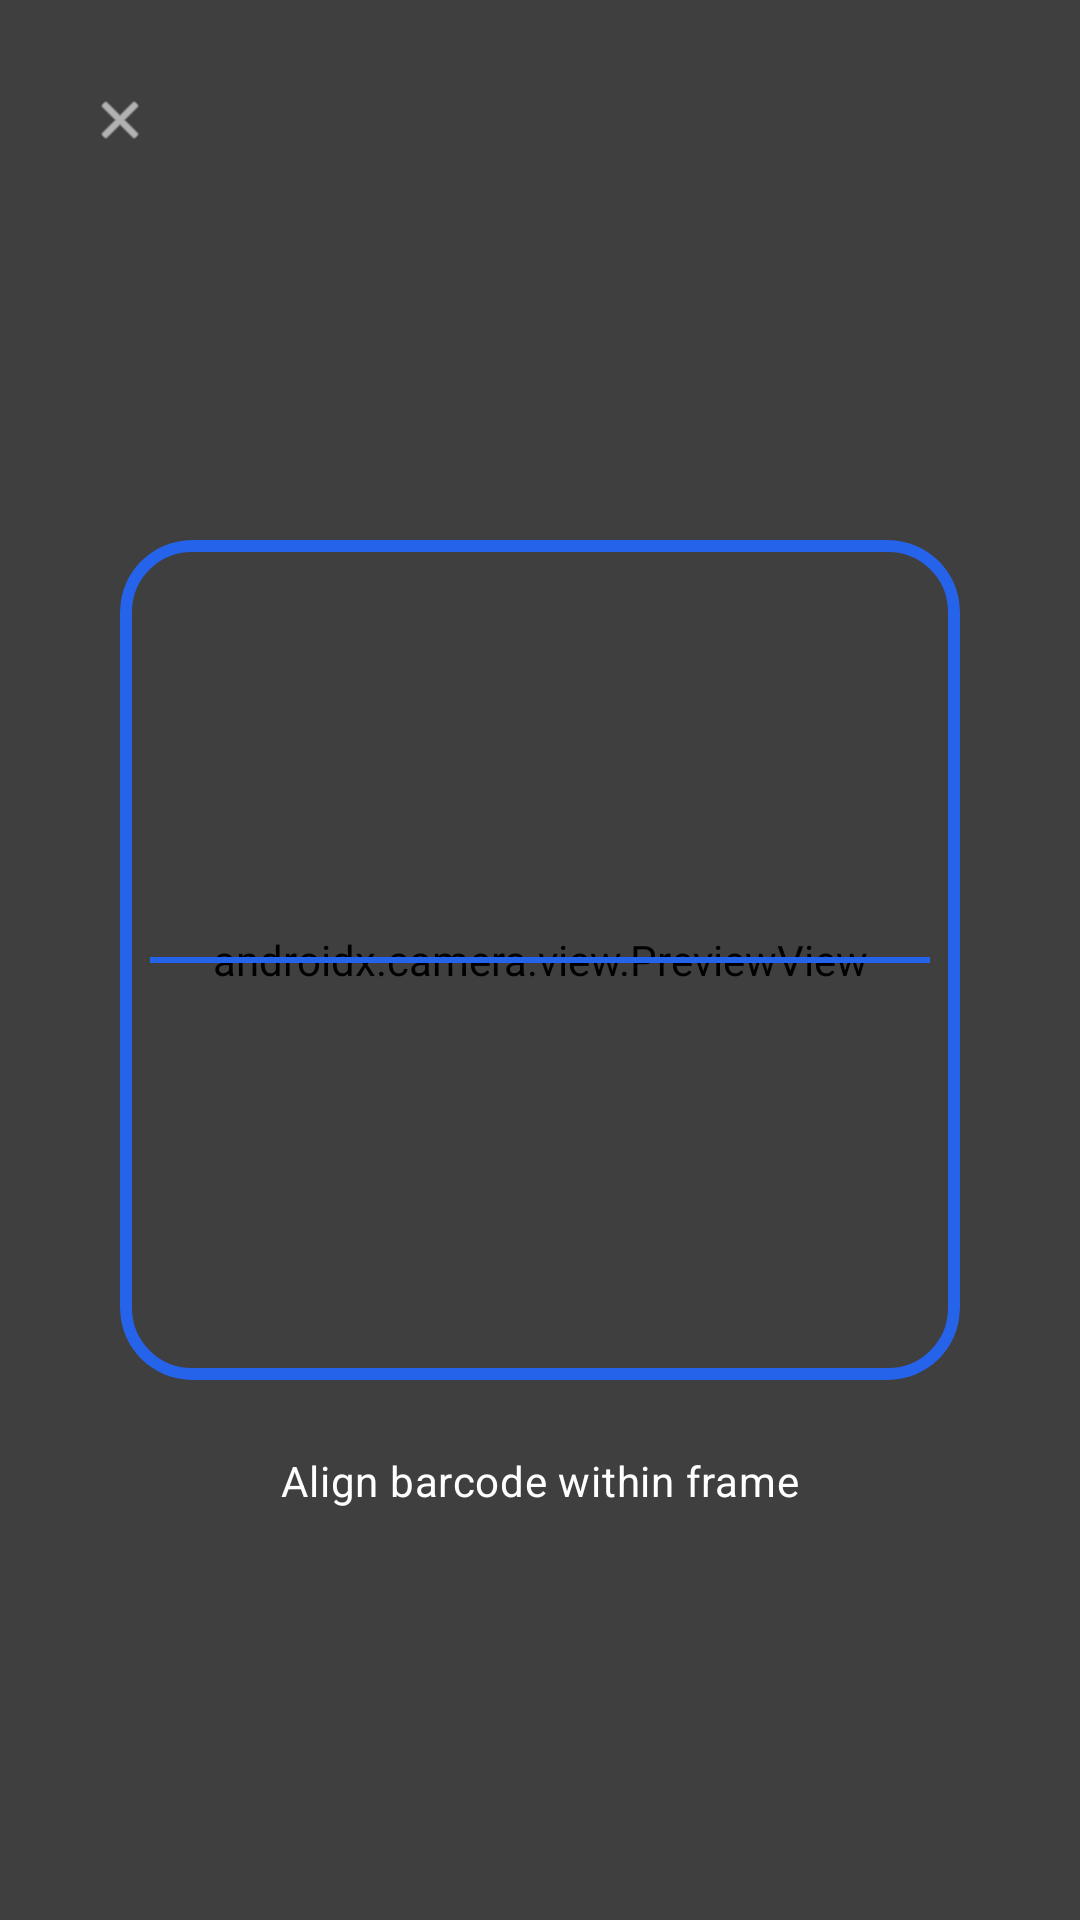

Point at icon controls on the screen. Image size 1080px x 1920px, points as (x,y).
close clear cancel: (120,120)
